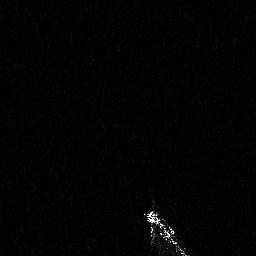ship: (142, 204, 190, 256)
